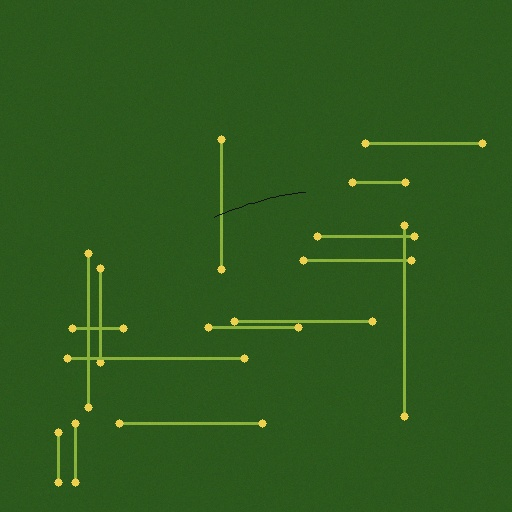scratch: (209, 187, 310, 222)
